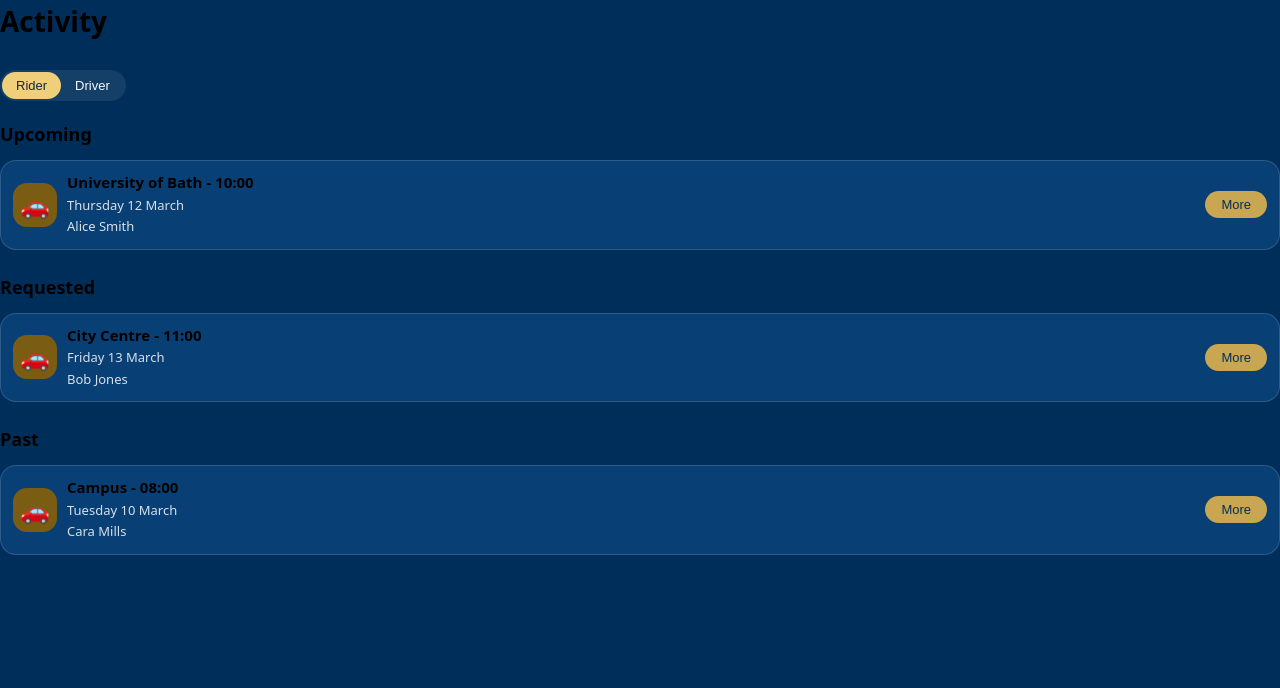
Scenario: ActivityPage › opens and closes the rider trip details sheet
The width and height of the screenshot is (1280, 688).
Click the button "More" in the row of "Thursday 12 March": (1236, 205) left=1205, top=191, right=1267, bottom=218
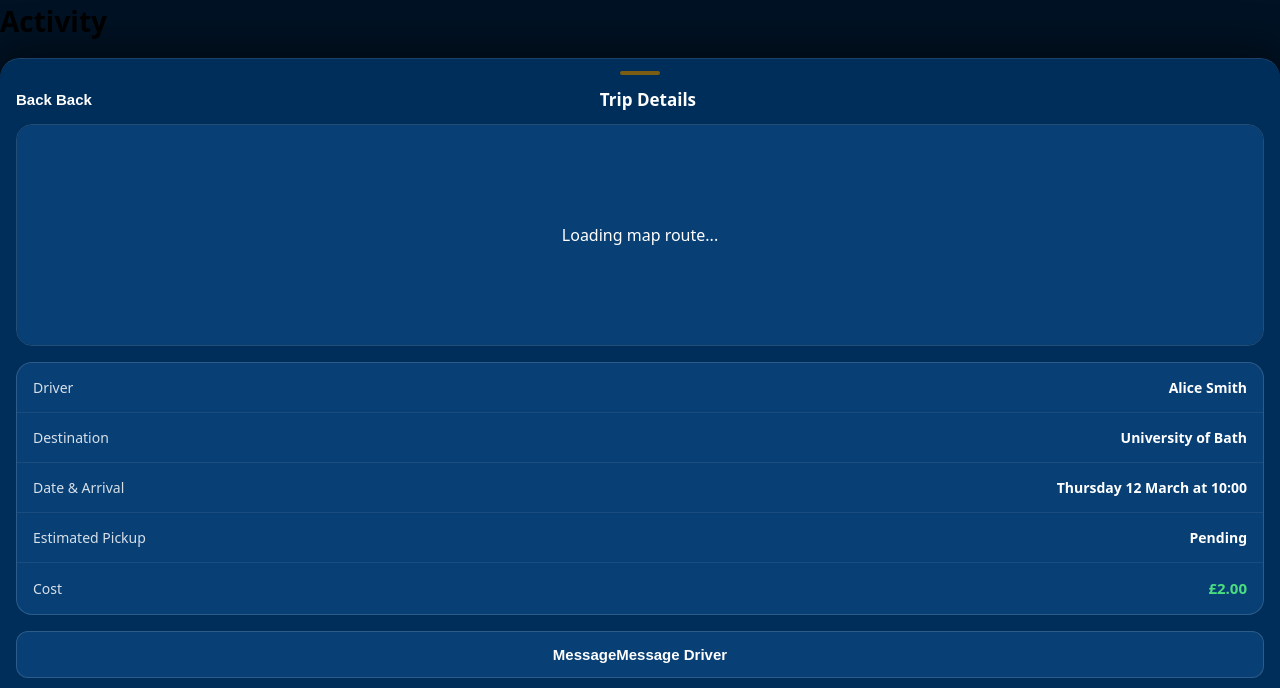
Result: the heading "Trip Details" is shown at left=600, top=87, right=696, bottom=112
Click the button "Back Back": (54, 99) left=16, top=87, right=92, bottom=112
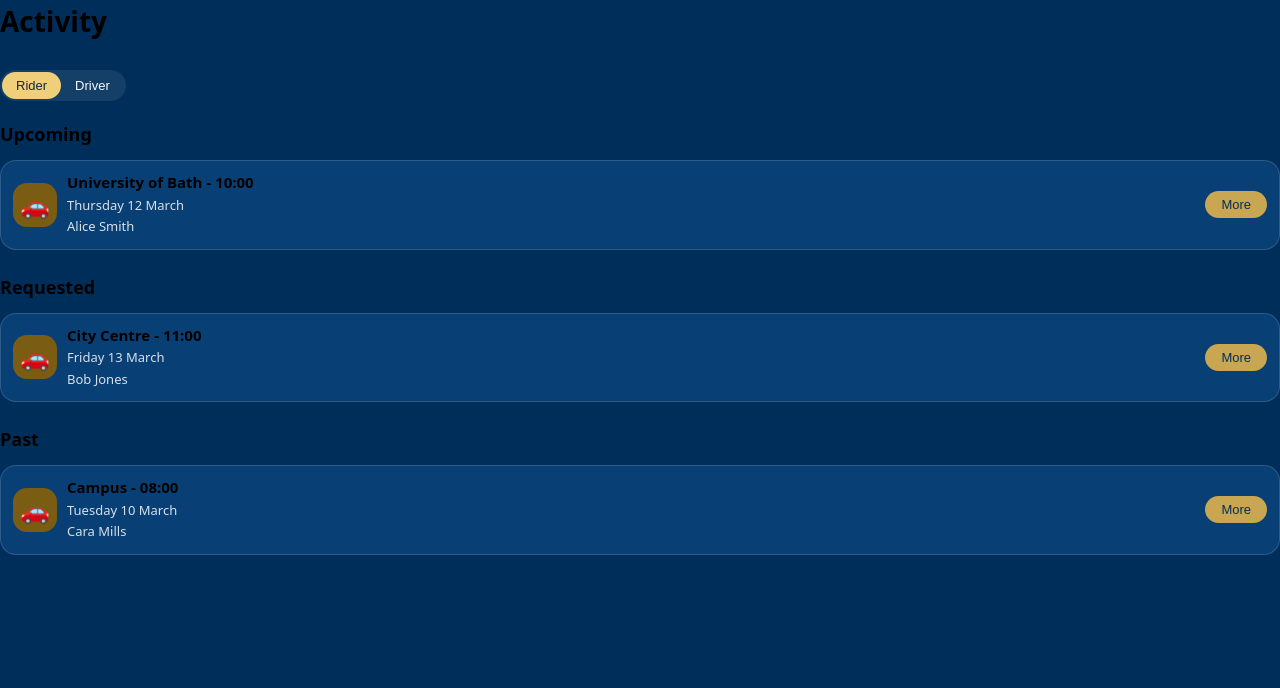
Result: the heading "Trip Details" is gone
